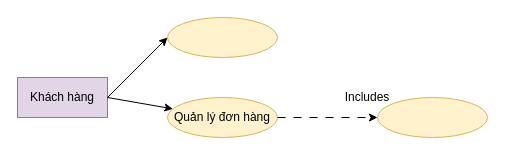
Image size: 505x155. Some labels were removed from this diagram. The box of each missing label's shape, as (x1, y1, x2, y2) in pixels:
Thanh toán: (376, 96, 488, 138)
Đăng nhập: (166, 16, 278, 58)
